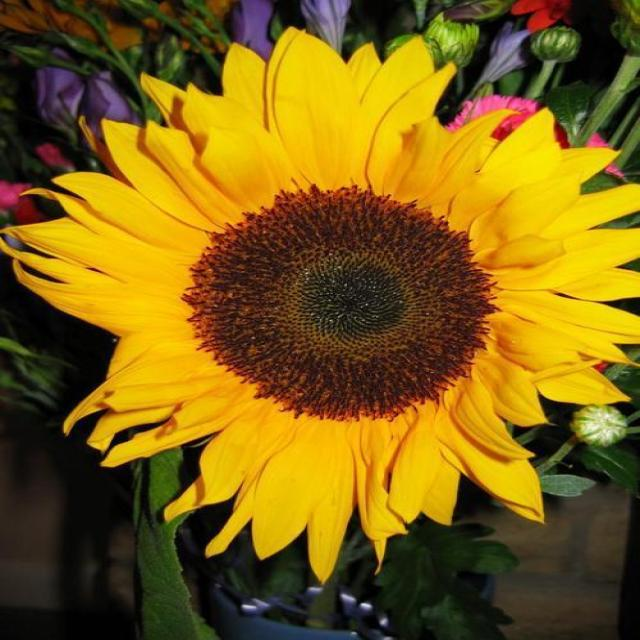sunflower: (0, 21, 640, 590)
